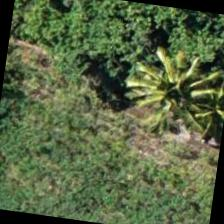Kelapa_Sawit: (126, 27, 223, 130), (159, 55, 223, 154)
